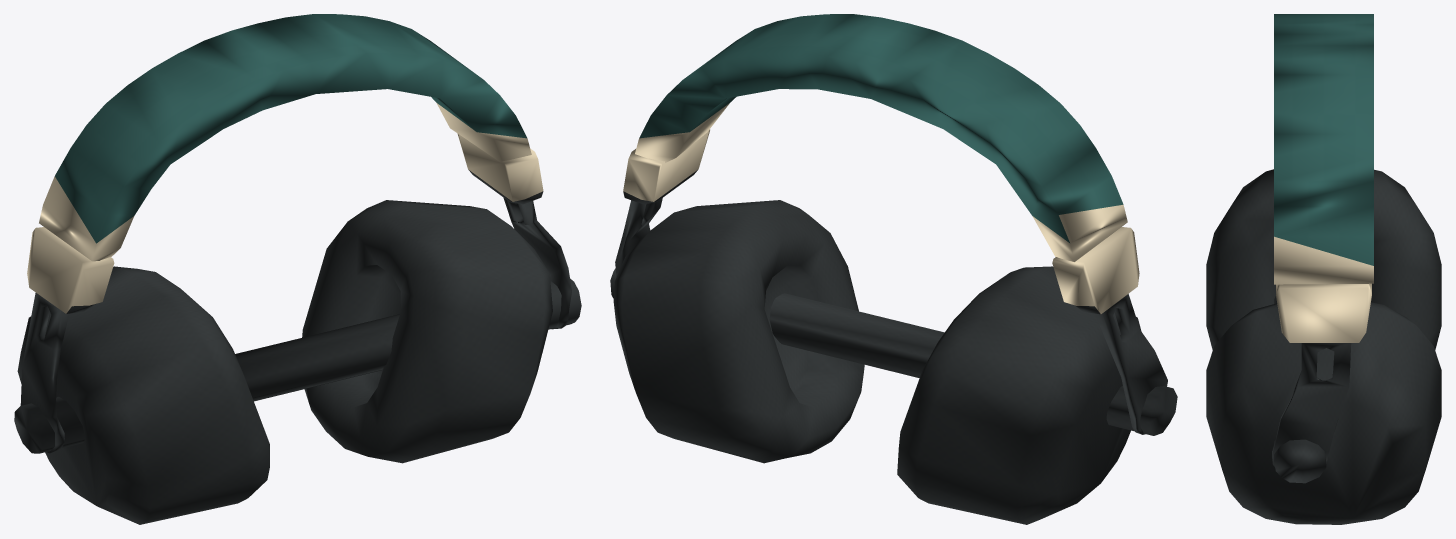
File: P07_atlas_v1.glb
3 renders of one model, left to right at view 1: azimuth 30°, elevation 25°; view 2: azimuth 150°, elevation 25°; view 3: azimuth 270°, elevation 25°, orthographic. The views are drawn at different scales.
Parts seen in each view (by area): view 1: P07_GeometryCandidate; view 2: P07_GeometryCandidate; view 3: P07_GeometryCandidate.
Boxes of the visible parts, <box> form: P07_GeometryCandidate: <box>14,14,581,524</box>; P07_GeometryCandidate: <box>610,14,1177,524</box>; P07_GeometryCandidate: <box>1206,14,1441,524</box>.
Bounding box in the file's own units: 2 × 1.5 × 0.8.
1 material, 1 textured.
